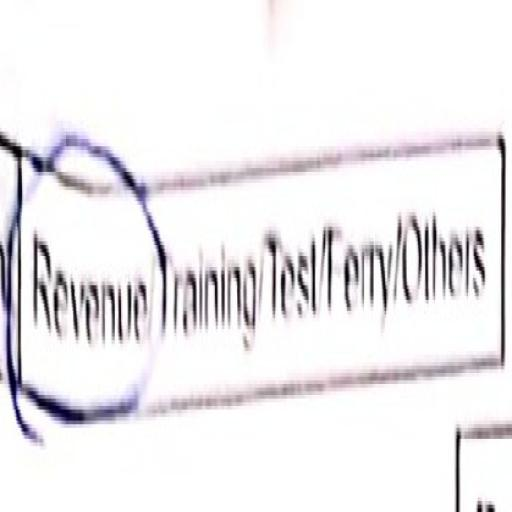check: (15, 113, 158, 490)
